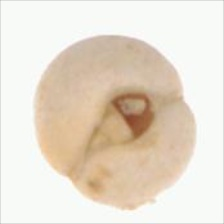L3: (87, 89, 156, 150)
L4: (33, 34, 197, 210)
